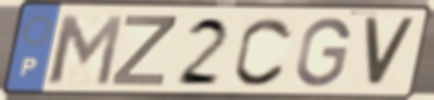2: (171, 15, 234, 88)
C: (231, 15, 296, 89)
G: (292, 15, 354, 90)
M: (46, 12, 127, 88)
V: (360, 14, 419, 90)
Z: (107, 13, 180, 88)
